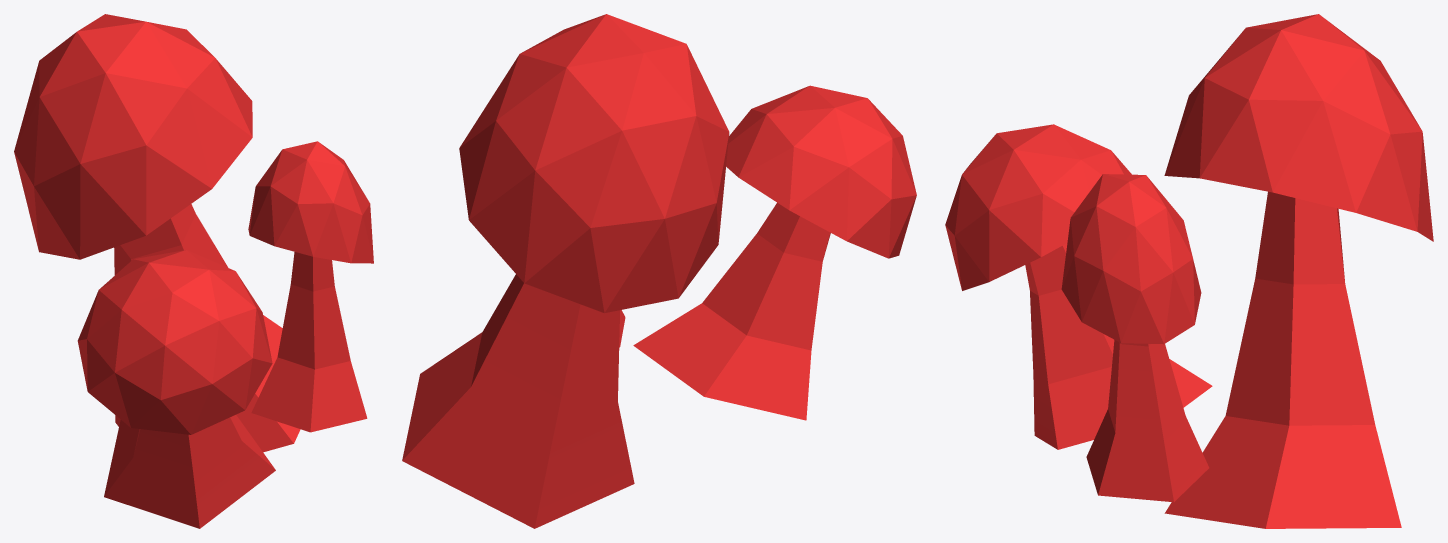
File: Mushrooms1.glb
3 renders of one model, left to right at view 1: azimuth 30°, elevation 25°; view 2: azimuth 150°, elevation 25°; view 3: azimuth 270°, elevation 25°, orthographic. The views are drawn at different scales.
Parts seen in each view (by area): view 1: Mushroom_5, Mushroom_0, Mushroom_0__1_; view 2: Mushroom_5, Mushroom_0; view 3: Mushroom_5, Mushroom_0__1_, Mushroom_0.
Part boxes in pixels (x1,y1,x2,y2): Mushroom_5: (14,14,300,452); Mushroom_0: (77,250,275,528); Mushroom_0__1_: (248,141,373,432); Mushroom_5: (402,14,729,528); Mushroom_0: (633,85,916,420); Mushroom_5: (1164,14,1433,528); Mushroom_0__1_: (1061,174,1209,502); Mushroom_0: (945,124,1212,449).
Size of the model in its own units: 0.0212 by 0.0265 by 0.0247.
